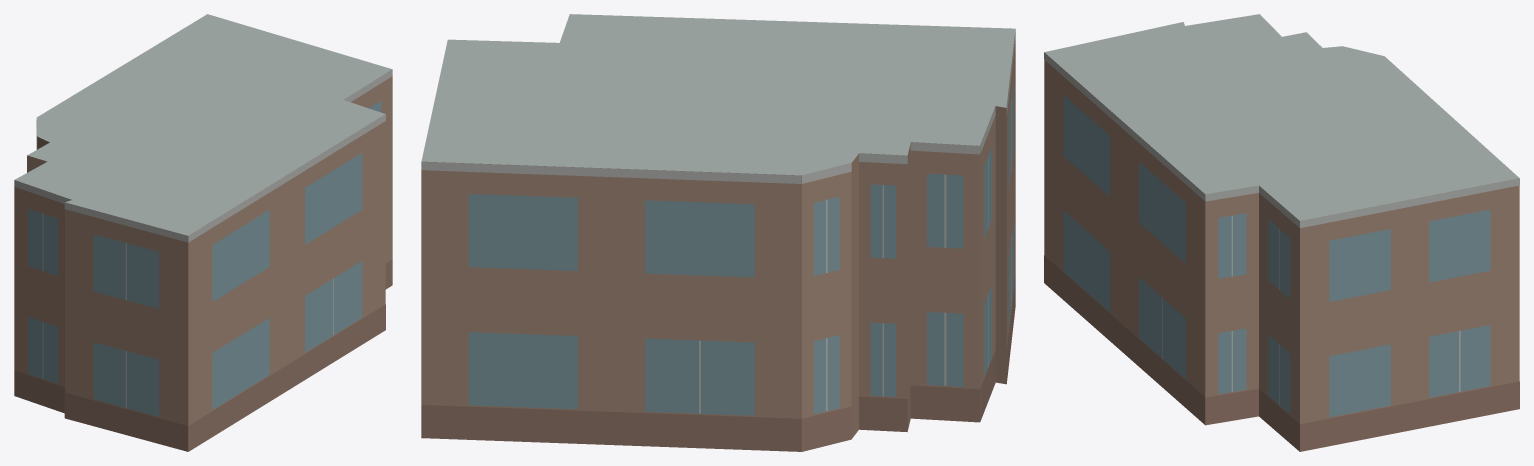
Rendered from survey-upis-32741644.glb.
3 views of the same model, side by side, from view 1: azimuth 30°, elevation 25°; view 2: azimuth 150°, elevation 25°; view 3: azimuth 270°, elevation 25° (orthographic). The views are drawn at different scales.
Parts seen in each view (by area): view 1: survey-upis-32741644.tmp; view 2: survey-upis-32741644.tmp; view 3: survey-upis-32741644.tmp.
Part boxes in pixels (x1,y1,x2,y2): survey-upis-32741644.tmp: (14, 14, 392, 451); survey-upis-32741644.tmp: (421, 14, 1015, 451); survey-upis-32741644.tmp: (1044, 14, 1519, 451).
Bounding box in the file's own units: 15.01 × 7.8 × 14.58.
